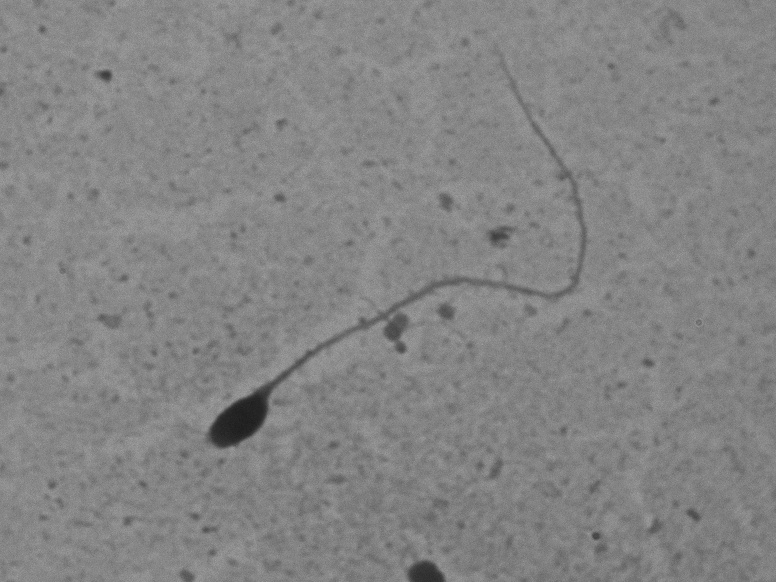Abnormal: (164, 40, 610, 486)
